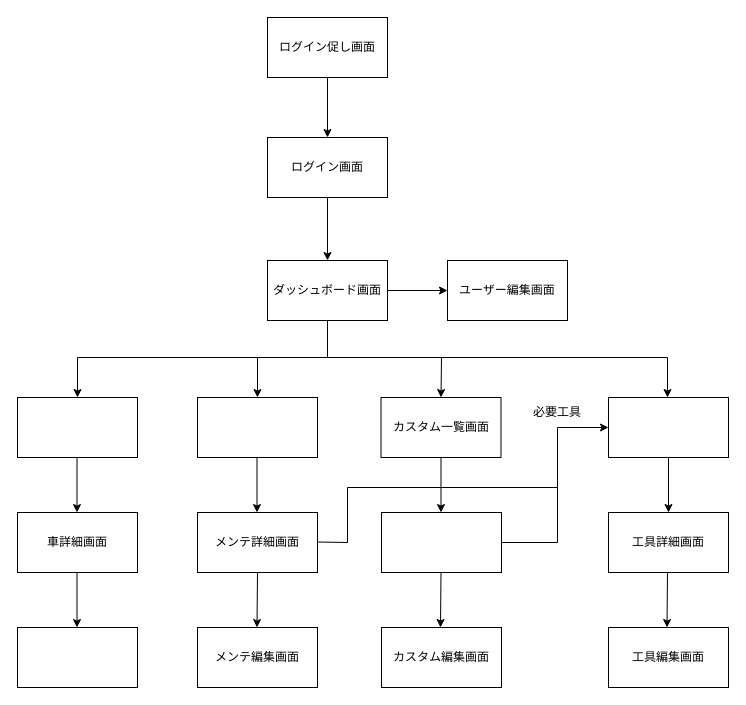
Some shapes in this 746 by 705 pixel diagram are drawn without their labels. Each missing label, with the centre of its shape:
カスタム詳細画面: the point at 441,542
メンテ一覧画面: the point at 257,427
工具一覧画面: the point at 668,427
車一覧画面: the point at 77,427
車編集画面: the point at 77,657
